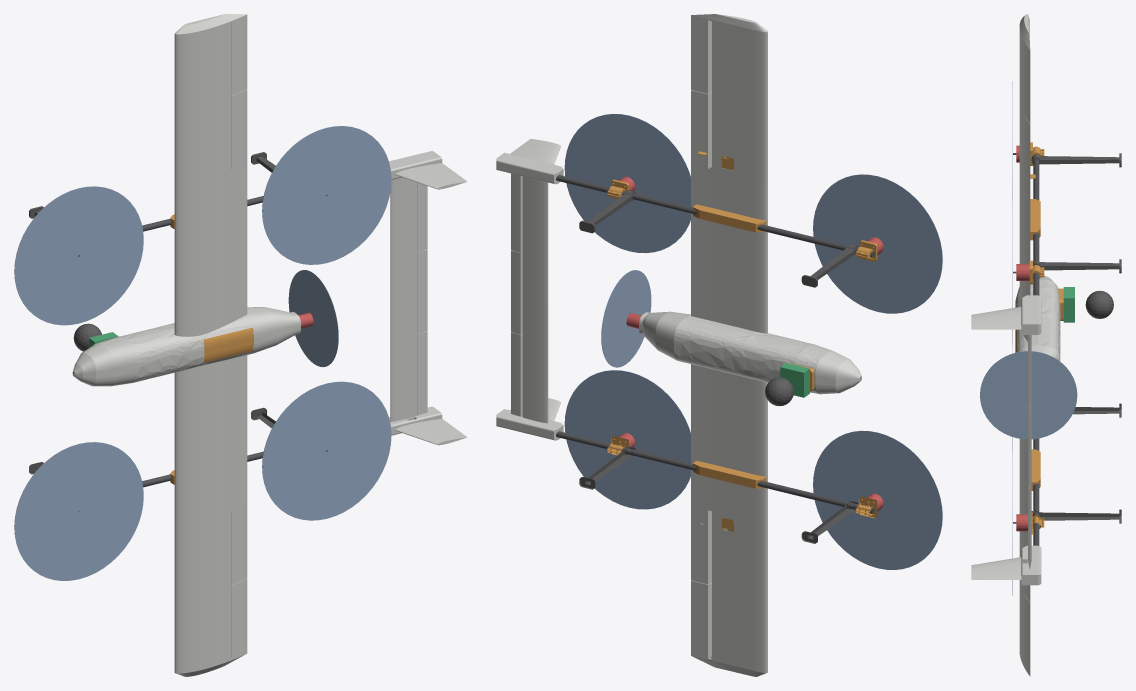
File: assemblage.glb
The picture shows the model from 3 angles, left to right: view 1: azimuth 30°, elevation 25°; view 2: azimuth 150°, elevation 25°; view 3: azimuth 270°, elevation 25°; orthographic projection. The views are drawn at different scales.
Parts seen in each view (by area): view 1: helice_64, helice_59, helice_56, helice_67, PLA Aero_0, PLA Aero_1, PLA Aero_3, PLA Aero_2, PLA Aero_7, PLA Aero_6, PLA Aero_4, PLA Aero_5 (+18 smaller); view 2: helice_64, helice_56, helice_59, helice_67, PLA Aero_0, PLA Aero_1, PLA Aero_2, PLA Aero_3, PLA Aero_7, PLA Aero_6, PLA Aero_5, PLA Aero_4 (+23 smaller); view 3: helice_72, PLA Aero_35, PLA Aero_36, PLA Aero_18, PLA Aero_2, PLA Aero_17, TPU 95A_31, TPU 95A_32, TPU 95A_34, TPU 95A_77, carbone_61, PLA Aero_3 (+13 smaller).
Part boxes in pixels (box(x1,y1,x2,y2)): helice_64: box(14, 186, 143, 325); helice_59: box(262, 381, 391, 520); helice_56: box(14, 442, 143, 580); helice_67: box(262, 126, 391, 264); PLA Aero_0: box(174, 239, 247, 336); PLA Aero_1: box(174, 355, 247, 448); PLA Aero_3: box(174, 429, 247, 523); PLA Aero_2: box(174, 164, 247, 259); PLA Aero_7: box(174, 585, 247, 673); PLA Aero_6: box(174, 14, 247, 109); PLA Aero_4: box(174, 96, 246, 184); PLA Aero_5: box(174, 504, 246, 598); helice_64: box(813, 174, 942, 313); helice_56: box(813, 430, 942, 569); helice_59: box(564, 370, 690, 509); helice_67: box(564, 114, 690, 253); PLA Aero_0: box(691, 240, 767, 333); PLA Aero_1: box(691, 364, 767, 447); PLA Aero_2: box(691, 165, 767, 257); PLA Aero_3: box(691, 430, 767, 522); PLA Aero_7: box(691, 585, 767, 672); PLA Aero_6: box(691, 15, 767, 107); PLA Aero_5: box(691, 505, 767, 597); PLA Aero_4: box(691, 95, 767, 182); helice_72: box(980, 351, 1077, 439); PLA Aero_35: box(971, 295, 1041, 334); PLA Aero_36: box(971, 545, 1041, 585); PLA Aero_18: box(1015, 314, 1060, 361); PLA Aero_2: box(1019, 176, 1030, 263); PLA Aero_17: box(1015, 278, 1060, 325); TPU 95A_31: box(1031, 153, 1121, 167); TPU 95A_32: box(1033, 259, 1121, 273); TPU 95A_34: box(1033, 509, 1121, 523); TPU 95A_77: box(1085, 290, 1113, 318); carbone_61: box(1033, 154, 1039, 295); PLA Aero_3: box(1019, 438, 1027, 514).
Size of the model in its own units: 1274 by 1836 by 391.
